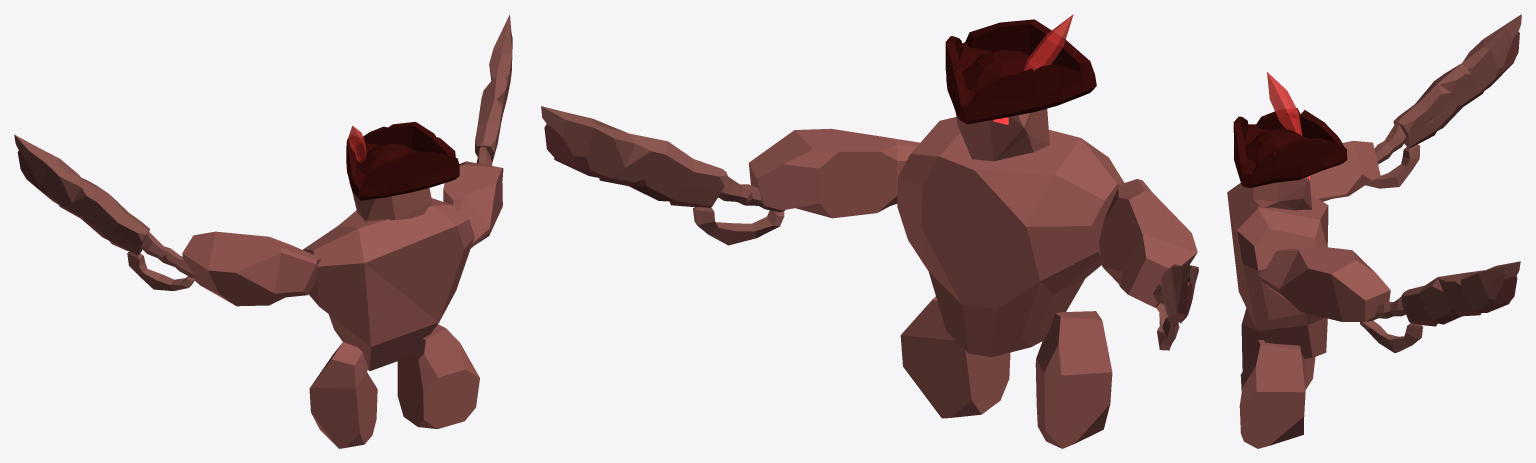
Rendered from golemBerserker.fbx.
3 views of the same model, side by side, from view 1: azimuth 30°, elevation 25°; view 2: azimuth 150°, elevation 25°; view 3: azimuth 270°, elevation 25° (orthographic). The views are drawn at different scales.
Visible parts, largest first — view 1: Cube.003; view 2: Cube.003; view 3: Cube.003.
Part boxes in pixels (x1=…): Cube.003: x1=14, y1=14, x2=512, y2=448; Cube.003: x1=541, y1=14, x2=1198, y2=448; Cube.003: x1=1227, y1=14, x2=1521, y2=448.
Bounding box in the file's own units: 1921 × 1171 × 967.
